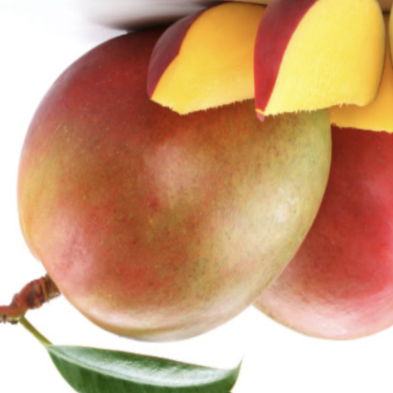mango: (0, 18, 357, 350)
